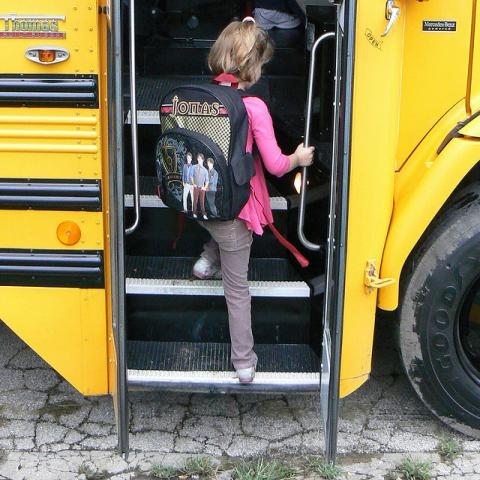bus: (0, 1, 479, 467)
